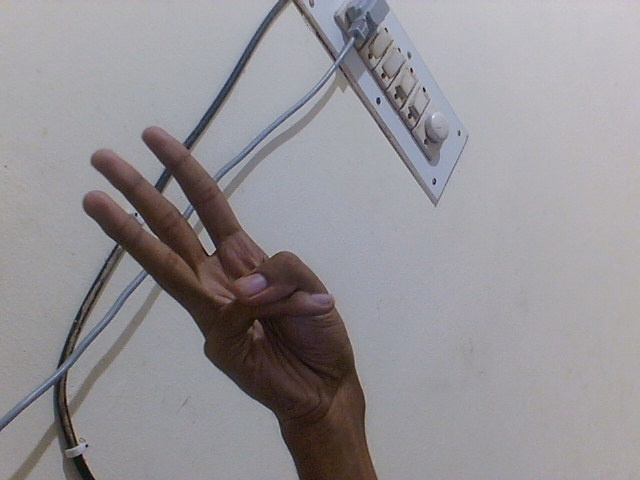hand: (66, 114, 363, 431)
